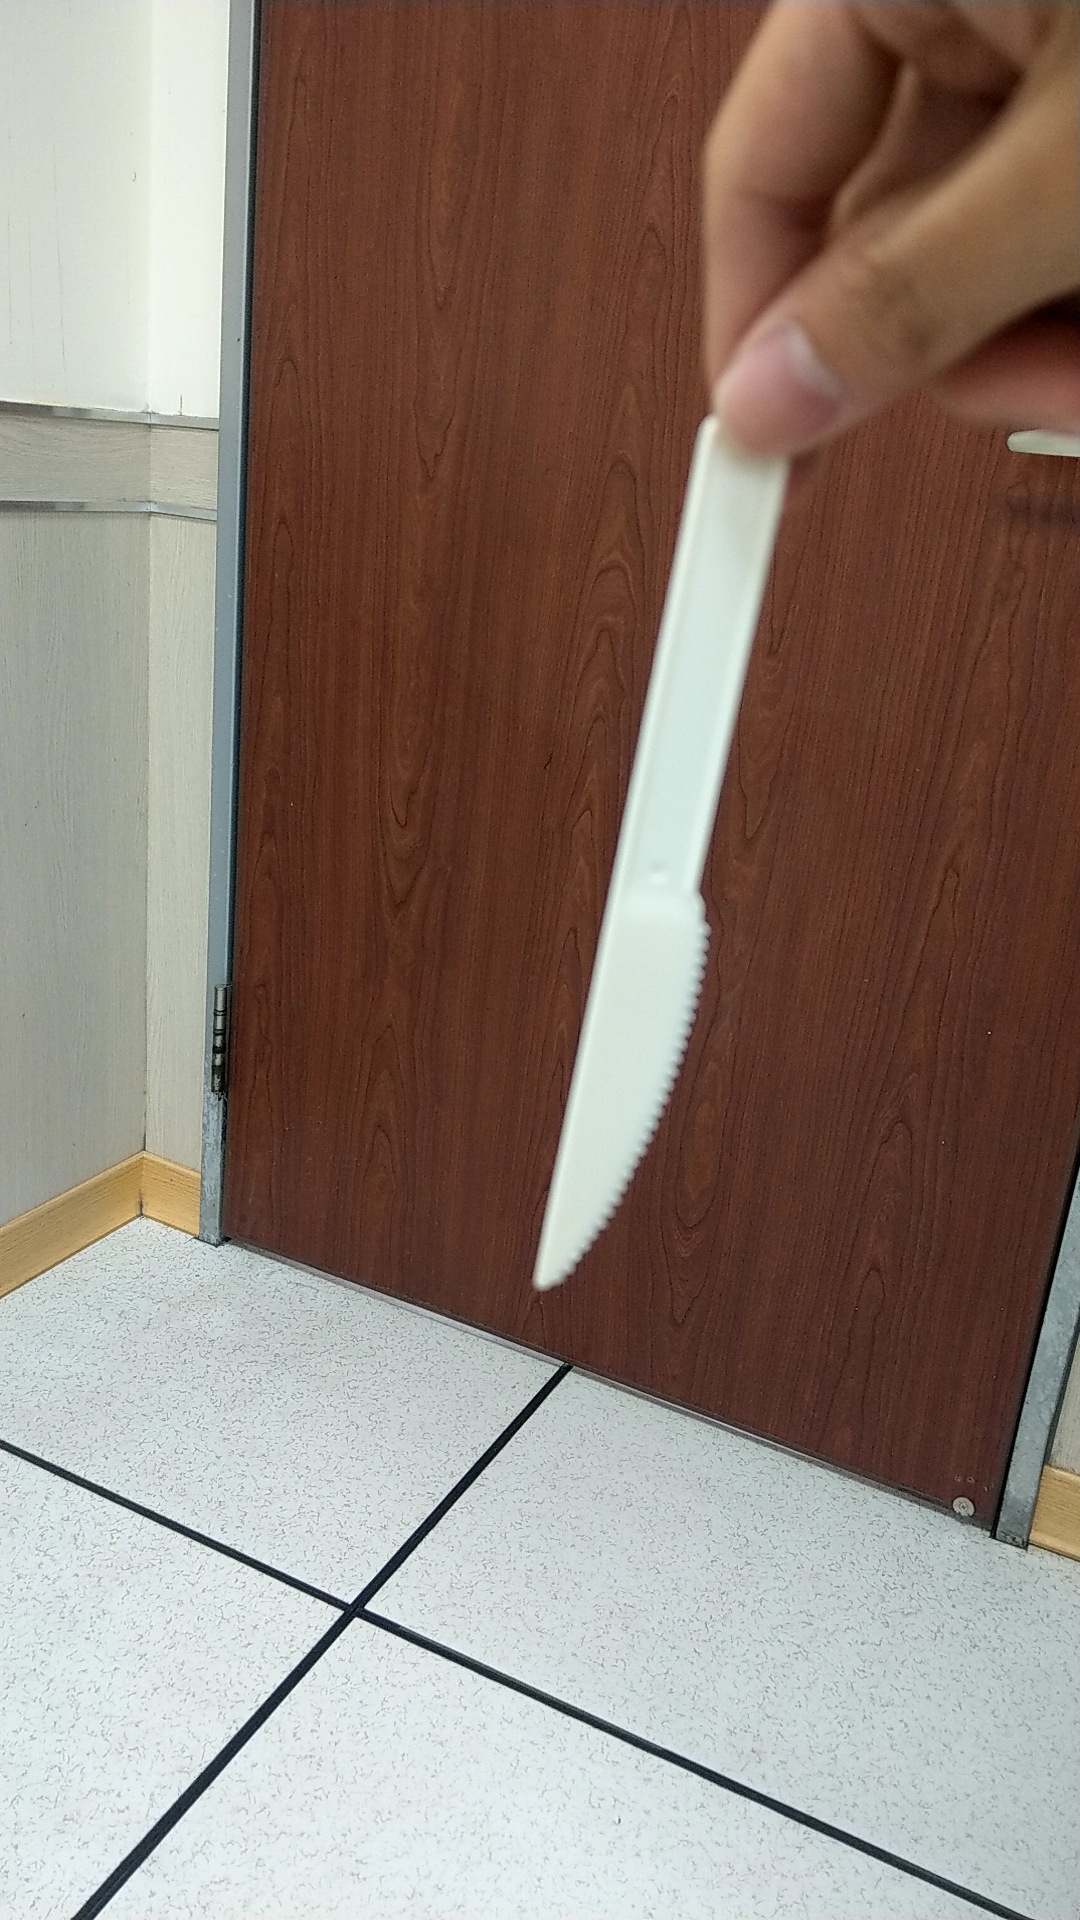knife: (525, 450, 811, 1313)
